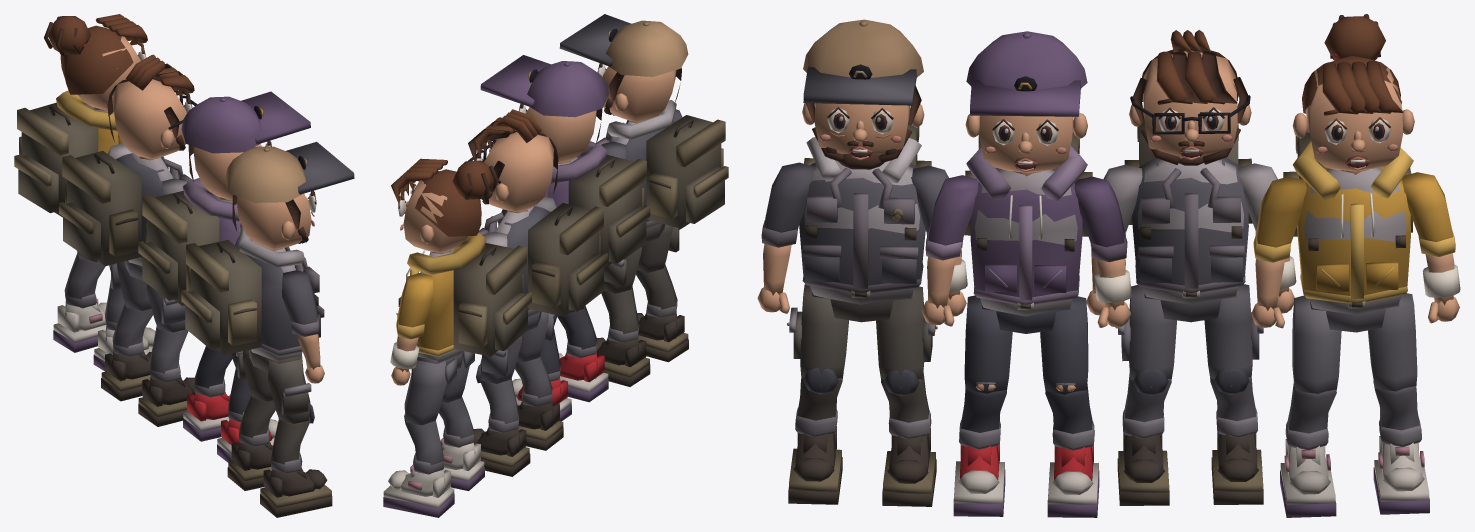
3 renders of one model, left to right at view 1: azimuth 30°, elevation 25°; view 2: azimuth 150°, elevation 25°; view 3: azimuth 270°, elevation 25°, orthographic. The views are drawn at different scales.
Visible parts, largest first — view 1: torso_pal_picketWhite, survivor03_torso_pal_picketWhite, head_pal_picketWhite, survivor04_torso_pal_picketWhite, survivor02_torso_pal_picketWhite, survivor02_head_pal_picketWhite, survivor03_head_pal_picketWhite, survivor04_head_pal_picketWhite, footR_pal_picketWhite, legR_pal_picketWhite, survivor03_footR_pal_picketWhite, survivor04_footL_pal_picketWhite (+18 smaller); view 2: survivor04_torso_pal_picketWhite, torso_pal_picketWhite, survivor03_torso_pal_picketWhite, head_pal_picketWhite, survivor02_head_pal_picketWhite, survivor04_head_pal_picketWhite, survivor02_torso_pal_picketWhite, survivor03_head_pal_picketWhite, survivor04_footL_pal_picketWhite, survivor04_legL_pal_picketWhite, survivor03_footL_pal_picketWhite, footL_pal_picketWhite (+21 smaller); view 3: torso_pal_picketWhite, survivor04_torso_pal_picketWhite, survivor02_torso_pal_picketWhite, survivor03_torso_pal_picketWhite, head_pal_picketWhite, survivor02_head_pal_picketWhite, survivor04_head_pal_picketWhite, survivor03_head_pal_picketWhite, survivor04_legR_pal_picketWhite, legR_pal_picketWhite, legL_pal_picketWhite, survivor03_legR_pal_picketWhite (+37 smaller).
Boxes of the visible parts, x1=… form: torso_pal_picketWhite: x1=181, y1=227, x2=324, y2=362; survivor03_torso_pal_picketWhite: x1=59, y1=151, x2=192, y2=266; head_pal_picketWhite: x1=225, y1=141, x2=354, y2=250; survivor04_torso_pal_picketWhite: x1=14, y1=90, x2=118, y2=217; survivor02_torso_pal_picketWhite: x1=138, y1=178, x2=240, y2=305; survivor02_head_pal_picketWhite: x1=181, y1=91, x2=310, y2=201; survivor03_head_pal_picketWhite: x1=107, y1=54, x2=197, y2=160; survivor04_head_pal_picketWhite: x1=44, y1=14, x2=147, y2=110; footR_pal_picketWhite: x1=260, y1=468, x2=332, y2=517; legR_pal_picketWhite: x1=268, y1=354, x2=311, y2=423; survivor03_footR_pal_picketWhite: x1=138, y1=377, x2=195, y2=426; survivor04_footL_pal_picketWhite: x1=53, y1=298, x2=106, y2=352; survivor04_torso_pal_picketWhite: x1=396, y1=233, x2=531, y2=362; torso_pal_picketWhite: x1=596, y1=100, x2=728, y2=228; survivor03_torso_pal_picketWhite: x1=478, y1=203, x2=607, y2=317; head_pal_picketWhite: x1=559, y1=14, x2=688, y2=123; survivor02_head_pal_picketWhite: x1=480, y1=55, x2=608, y2=164; survivor04_head_pal_picketWhite: x1=391, y1=158, x2=498, y2=254; survivor02_torso_pal_picketWhite: x1=548, y1=141, x2=650, y2=268; survivor03_head_pal_picketWhite: x1=468, y1=109, x2=558, y2=213; survivor04_footL_pal_picketWhite: x1=383, y1=464, x2=454, y2=517; survivor04_legL_pal_picketWhite: x1=404, y1=360, x2=446, y2=425; survivor03_footL_pal_picketWhite: x1=473, y1=427, x2=530, y2=476; footL_pal_picketWhite: x1=596, y1=336, x2=650, y2=386; torso_pal_picketWhite: x1=799, y1=117, x2=931, y2=304; survivor04_torso_pal_picketWhite: x1=1283, y1=126, x2=1413, y2=314; survivor02_torso_pal_picketWhite: x1=964, y1=129, x2=1092, y2=316; survivor03_torso_pal_picketWhite: x1=1124, y1=118, x2=1252, y2=304; head_pal_picketWhite: x1=802, y1=19, x2=924, y2=169; survivor02_head_pal_picketWhite: x1=965, y1=31, x2=1087, y2=176; survivor04_head_pal_picketWhite: x1=1292, y1=14, x2=1414, y2=174; survivor03_head_pal_picketWhite: x1=1129, y1=30, x2=1251, y2=165; survivor04_legR_pal_picketWhite: x1=1292, y1=295, x2=1341, y2=394; legR_pal_picketWhite: x1=787, y1=284, x2=848, y2=378; legL_pal_picketWhite: x1=876, y1=286, x2=937, y2=379; survivor03_legR_pal_picketWhite: x1=1115, y1=285, x2=1176, y2=379.
Size of the model in its own units: 0.691 by 1.45 by 2.02.
